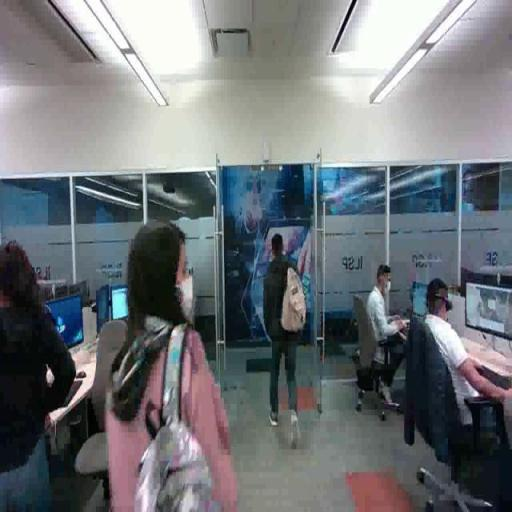person: (106, 218, 234, 512), (1, 243, 75, 512), (264, 233, 309, 447)
